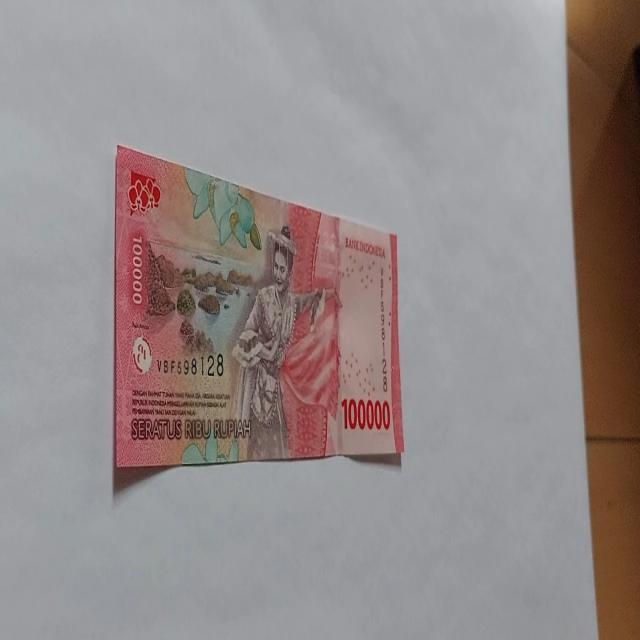seratus ribu rupiah: (113, 143, 404, 479), (228, 224, 340, 460)
